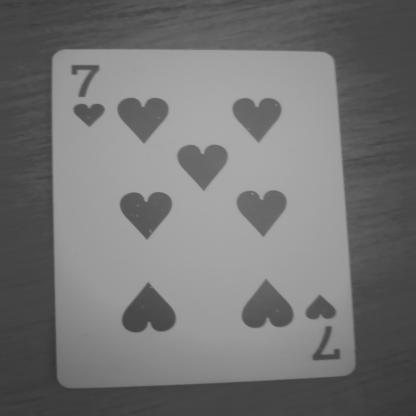7H: (60, 54, 122, 137), (300, 283, 348, 368)
